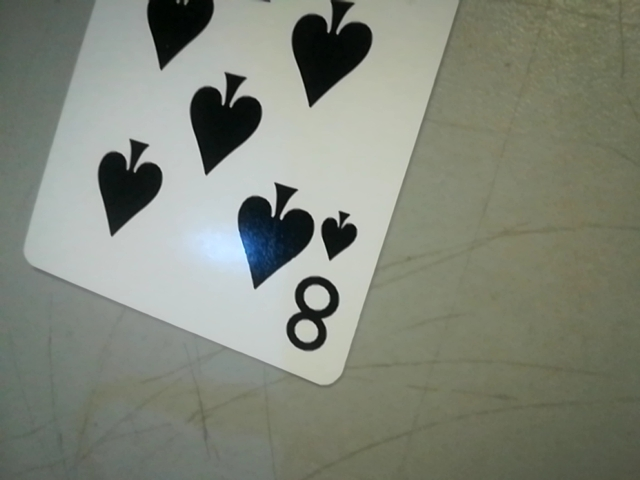ht 8: (280, 199, 362, 368)
